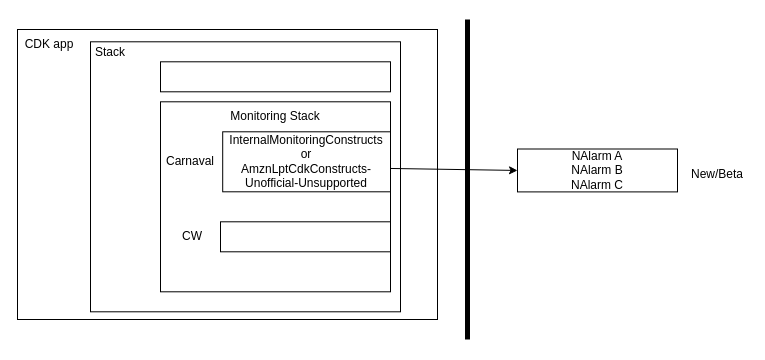
Image size: 765x360. Some labels were removed from this diagram. The shapes that lost their labels are listed below. From the top down, each one's centre as x and y in pixels, then its label:
[275,76]: Pipeline Stack
[305,236]: aws-cdk/aws-cloudwatch
